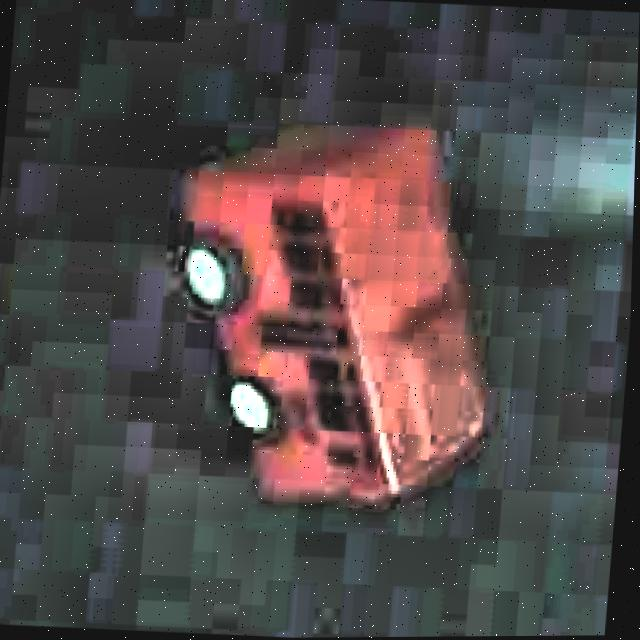bus: (142, 110, 515, 527)
